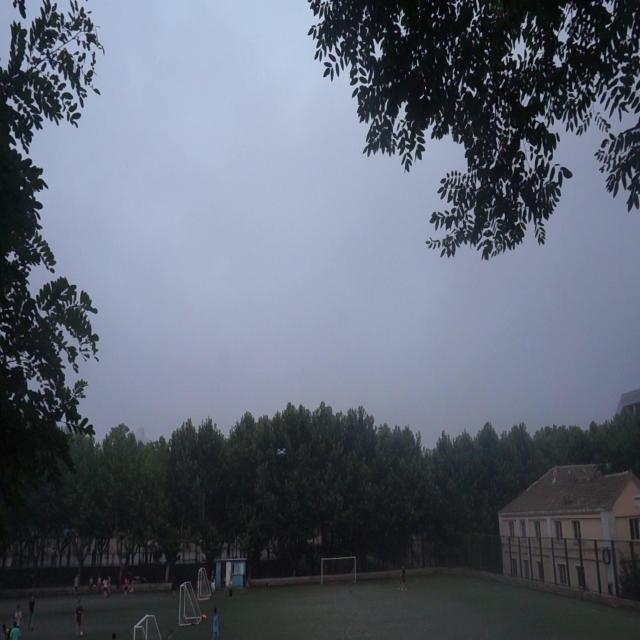UAV: (277, 448, 286, 458)
